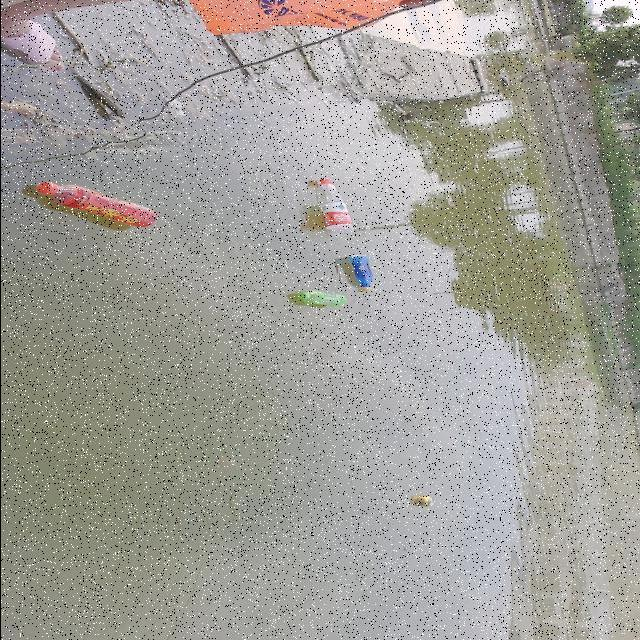Bottle: (30, 170, 166, 237), (312, 172, 354, 236), (288, 280, 350, 314), (344, 248, 376, 292)
